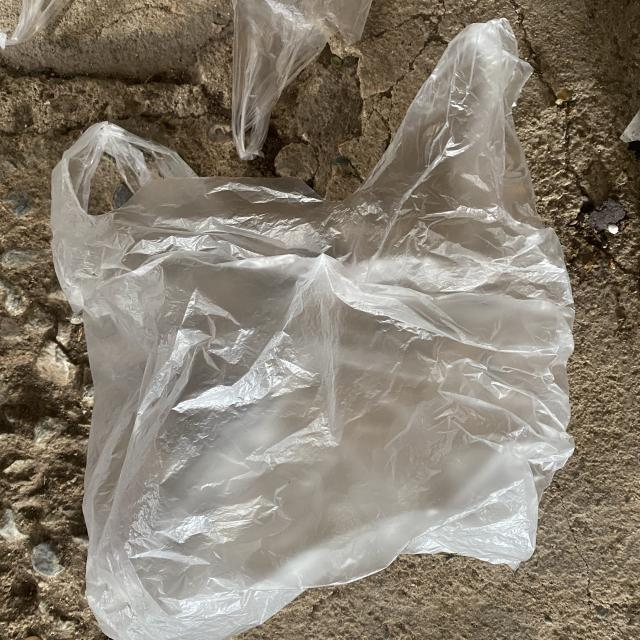Single-layer Plastic: (51, 20, 574, 640), (231, 0, 372, 160)
